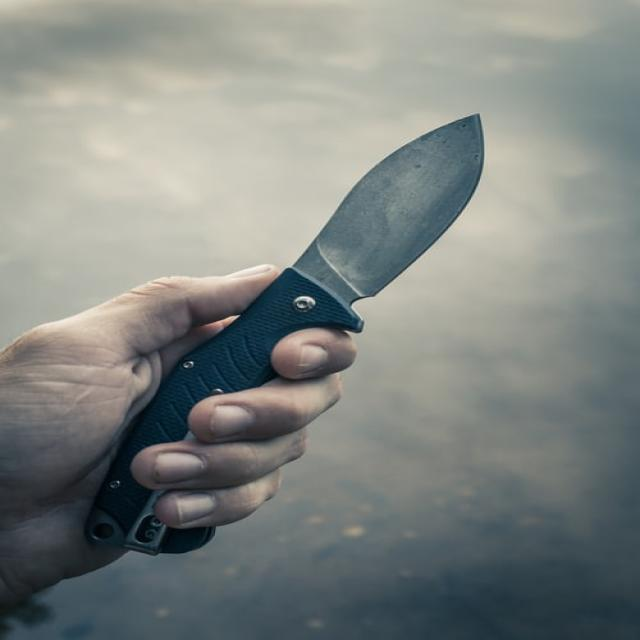faca: (74, 66, 507, 590)
